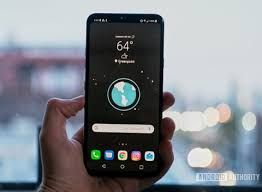lg: (77, 9, 165, 181)
